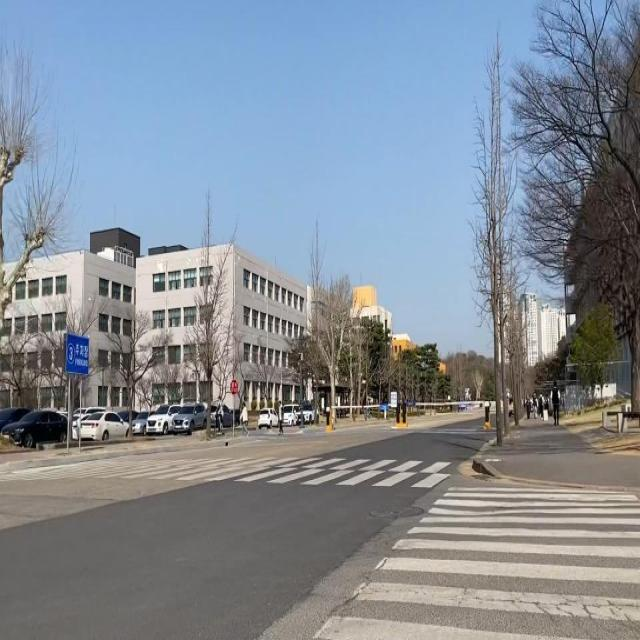sidewalk: (474, 412, 640, 488), (0, 434, 248, 463), (304, 423, 326, 430), (282, 426, 302, 433), (272, 428, 280, 433)
